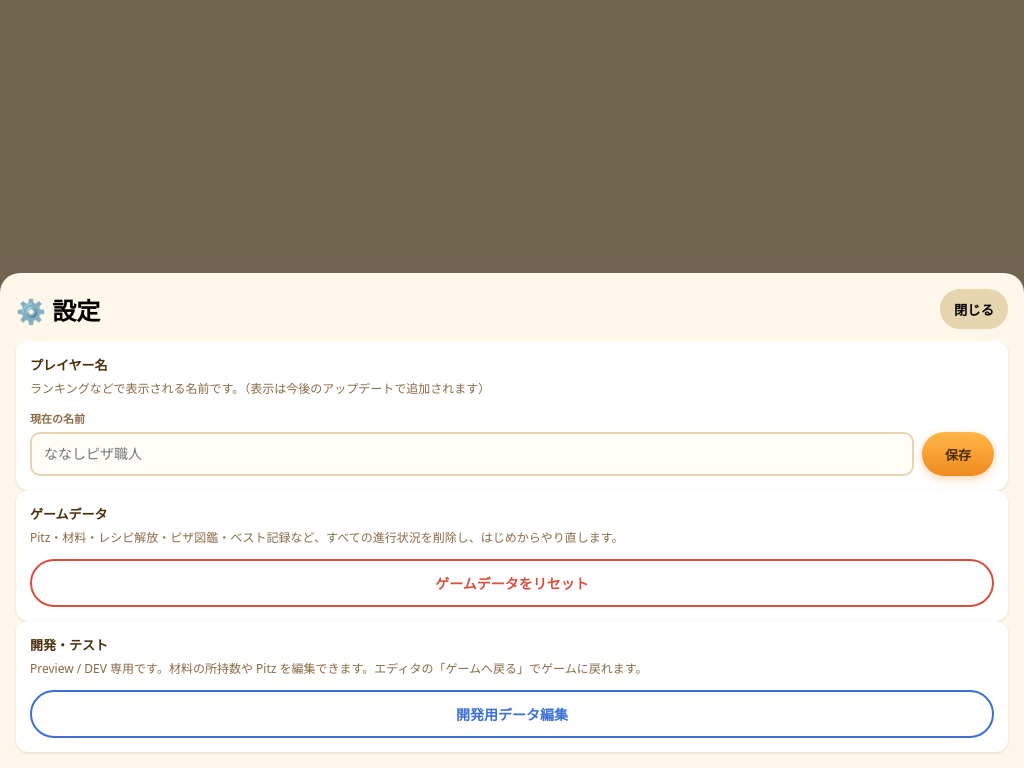
SettingsOverlay -- プレイヤー名 › validation error (server-side): the server rejecting still surfaces a validation message
Type "Alice" into the field labelled "現在の名前" at (472, 454), box [30,432,914,476]
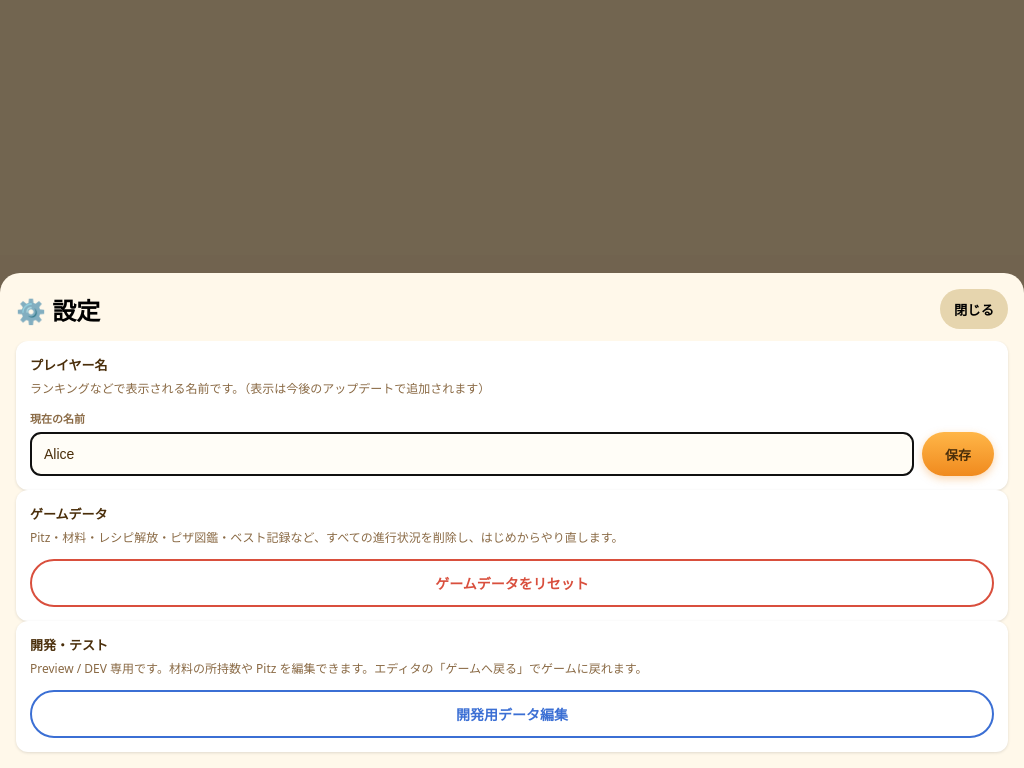
Click the button "保存" at (958, 454), box [922,432,994,476]
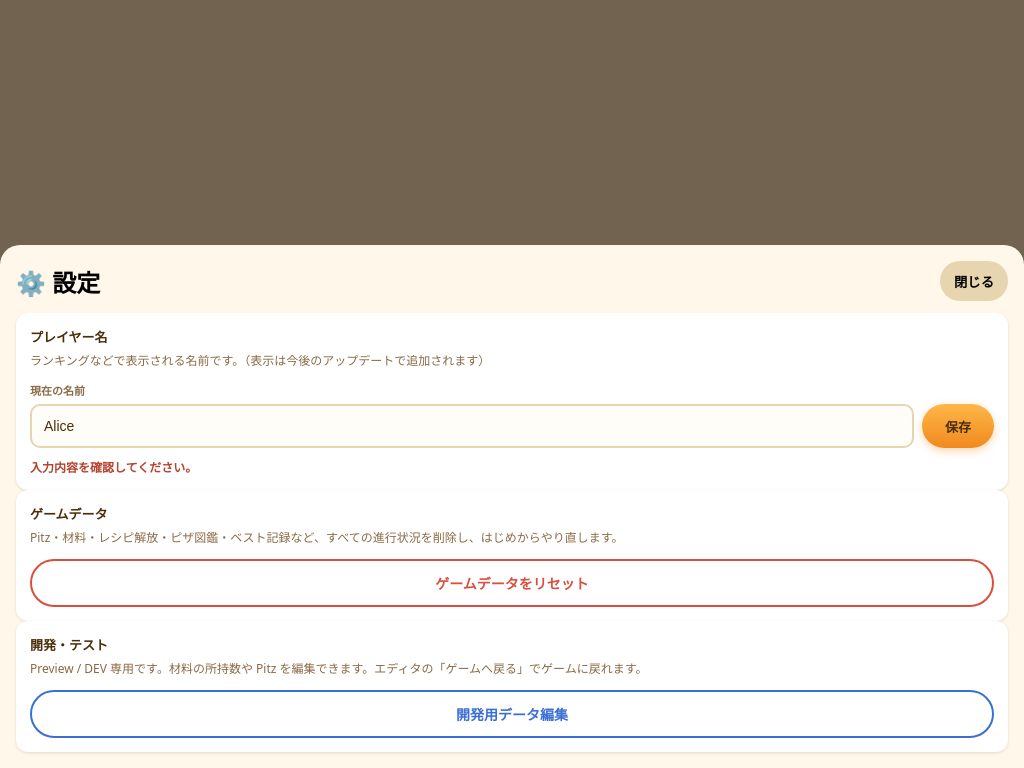
Result: the text "入力内容を確認してください。" is shown at [30,459,197,476]
